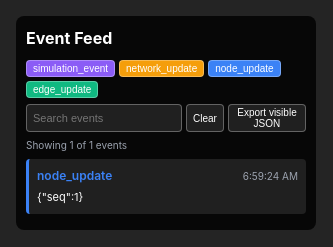
Test: EventFeed operations › Clear is disabled when empty, empties the feed, and later events still arrive
This screenshot has width=333, height=247.
Later steps or results of the test are not shown.
What coordinates should you click on to do the following:
click the button "Clear"
I would click on:
 (205, 118)
Its box is [186,104,224,132].
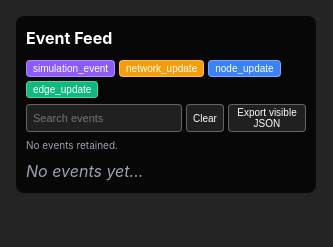
Result: the text with test id "feed-summary" reads "No events retained." at [26,139,118,151]
